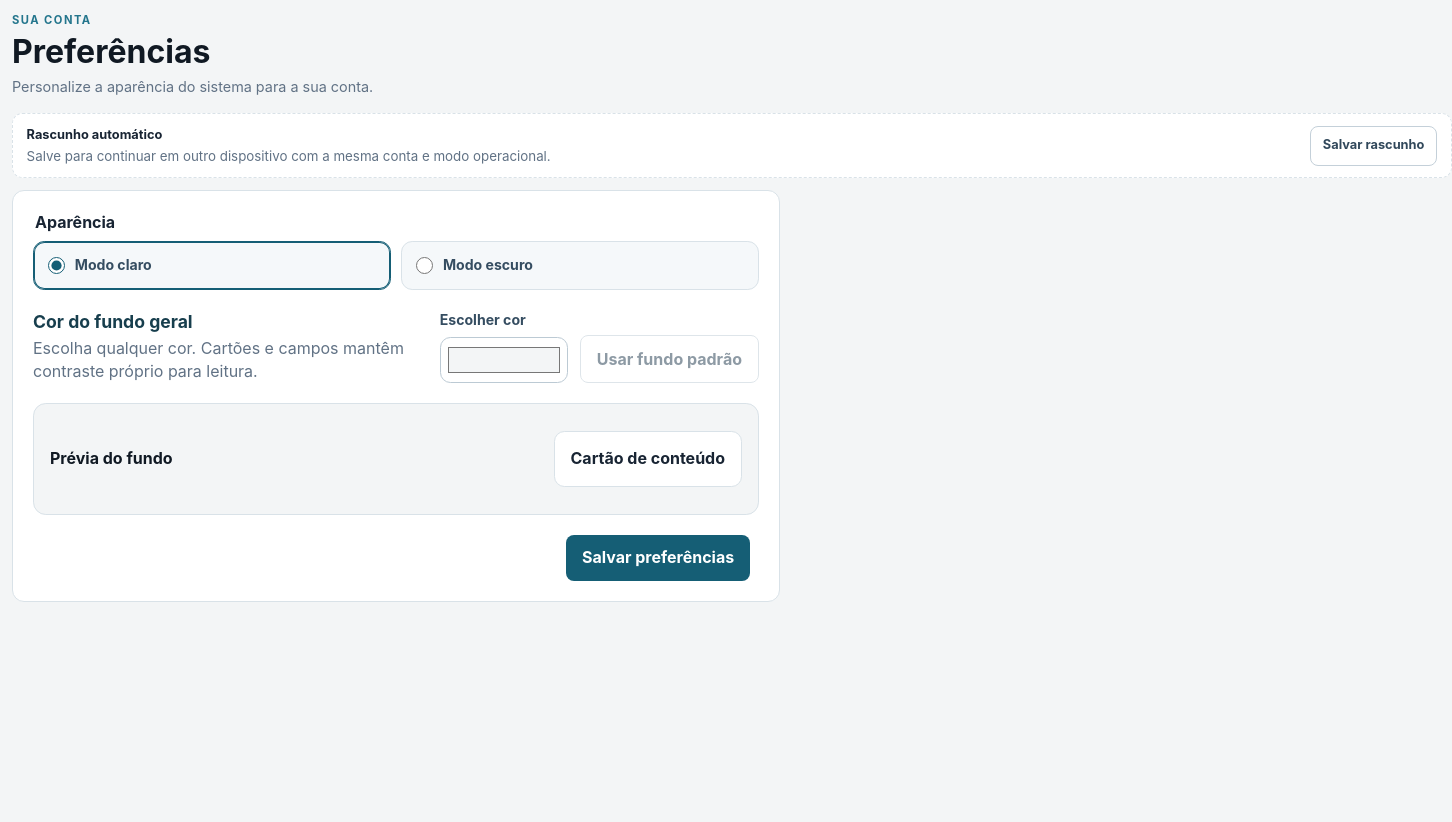
Test: Tela de preferências › salva o tema para a conta e oferece restauração do fundo padrão
Click the radio button labelled "Modo escuro" at coordinates (425, 265), box top-left (416, 257), bottom-right (433, 274)
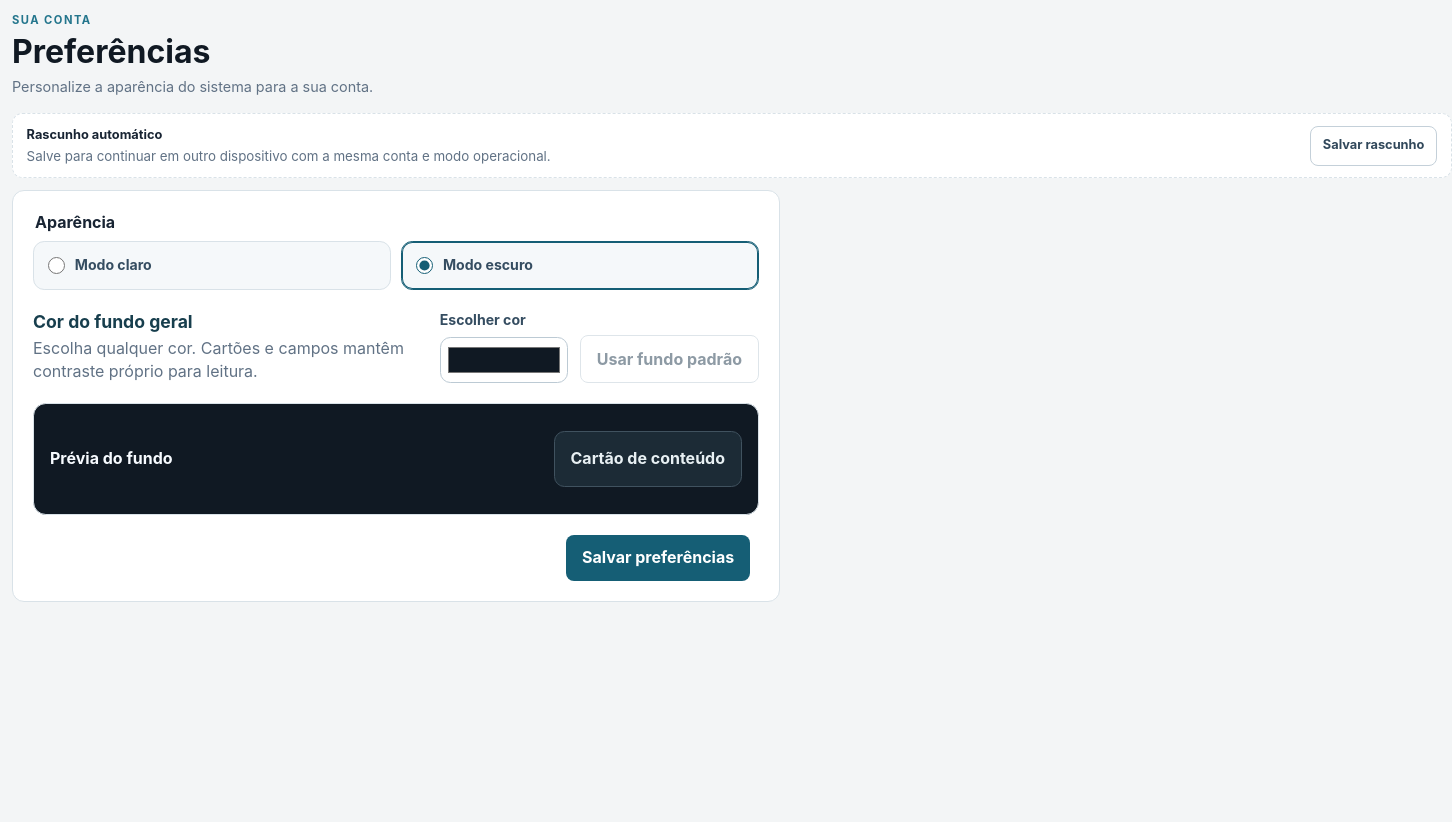
Submit the form, box top-left (12, 190), bottom-right (780, 602)
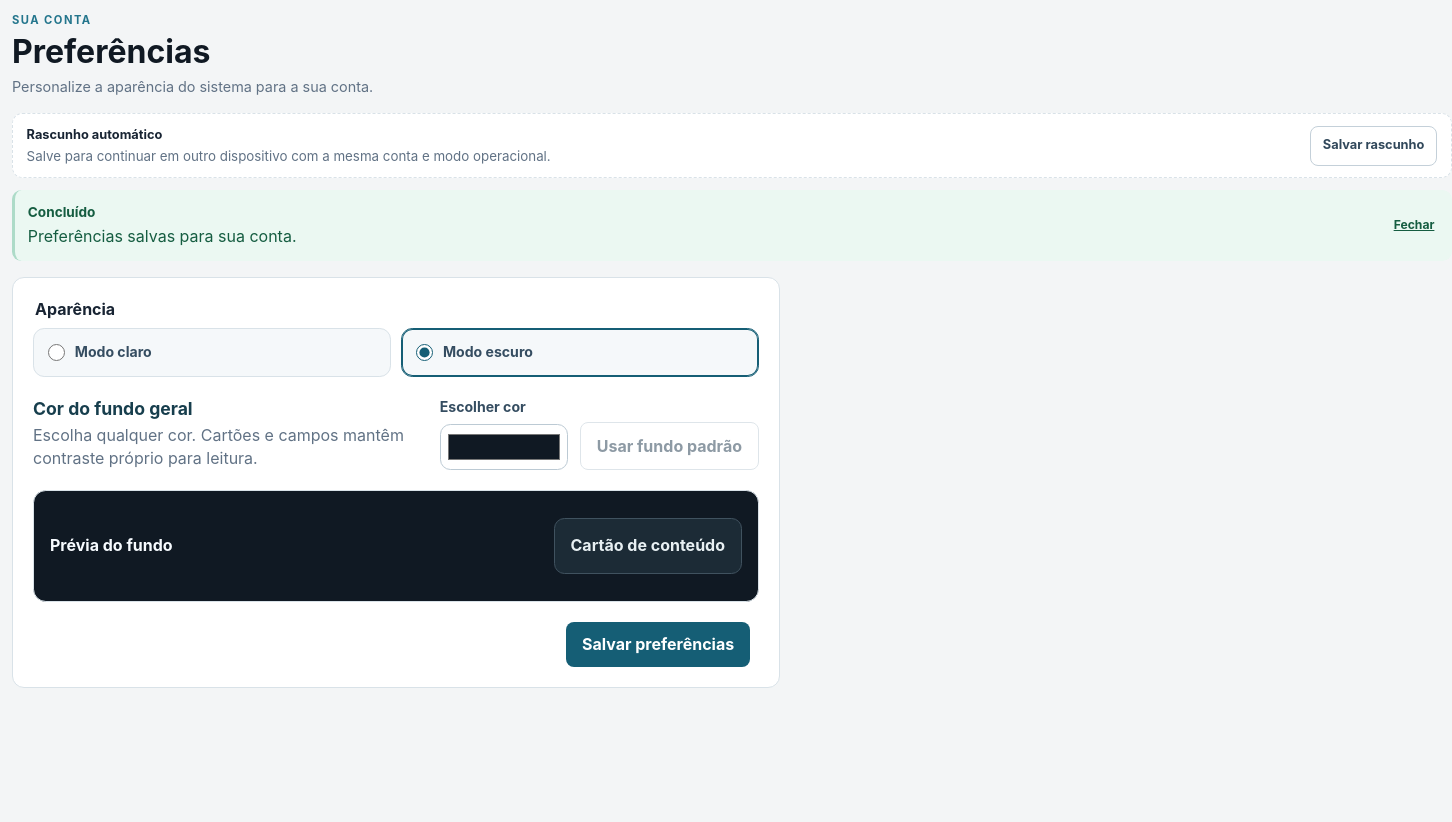
Expected: the text "Preferências salvas" is shown, top-left (28, 226), bottom-right (296, 246)
